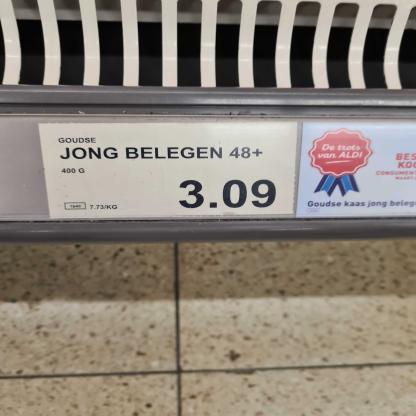prtg: (39, 123, 299, 220)
